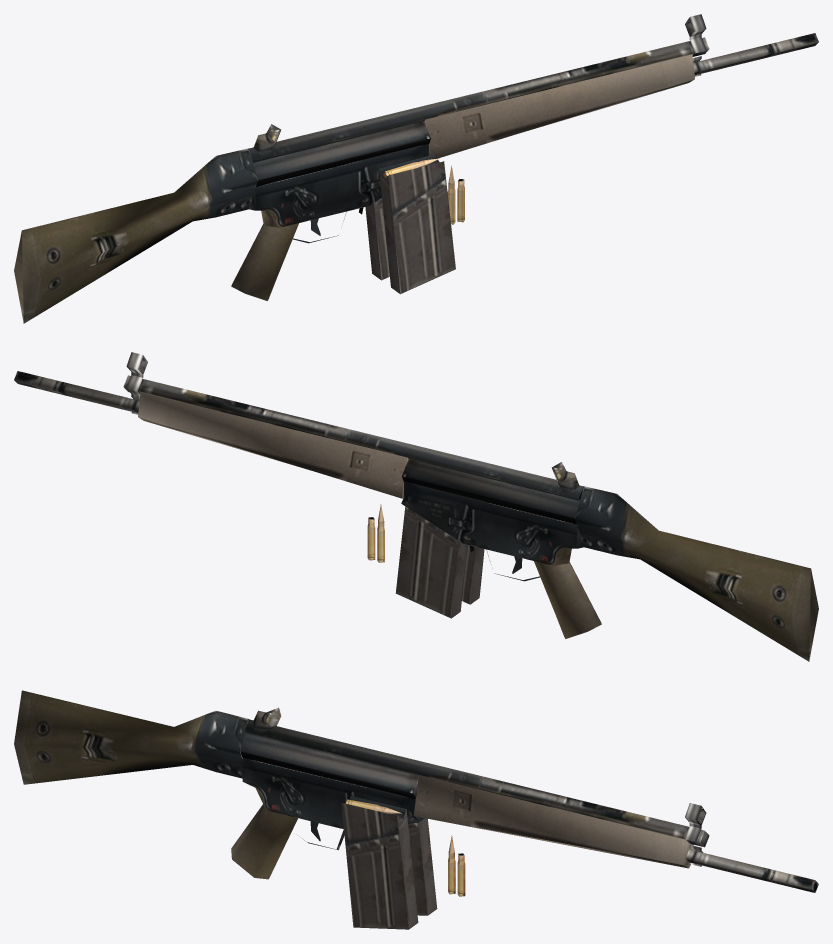
3 views of the same model, one above another, from view 1: azimuth 30°, elevation 25°; view 2: azimuth 150°, elevation 25°; view 3: azimuth 330°, elevation 25° (orthographic).
Parts seen in each view (by area): view 1: G3, G3Magazene_Full, G3Magazene; view 2: G3, G3Magazene, G3Magazene_Full; view 3: G3, G3Magazene_Full, G3Magazene.
Boxes of the visible parts, x1,y1,x2,y2 form: G3: (14, 14, 818, 323); G3Magazene_Full: (379, 154, 455, 294); G3Magazene: (365, 146, 418, 280); G3: (14, 352, 818, 661); G3Magazene: (395, 484, 467, 618); G3Magazene_Full: (462, 545, 484, 604); G3: (14, 690, 818, 892); G3Magazene_Full: (341, 796, 418, 929); G3Magazene: (376, 790, 437, 915).
Bounding box in the file's own units: 4.36 × 0.965 × 0.3077.
Materials: 5 (5 with a texture image).
